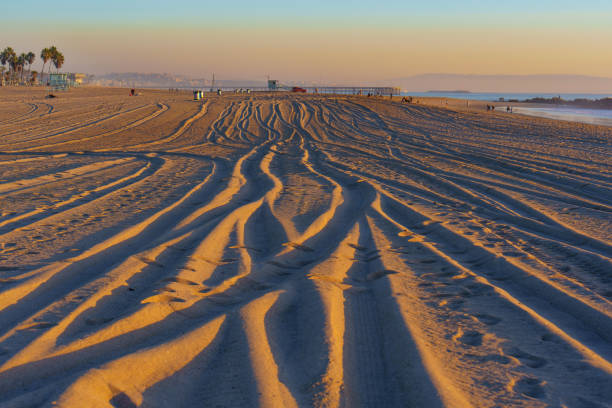vehicle_track: (0, 90, 611, 407), (0, 105, 147, 151)
